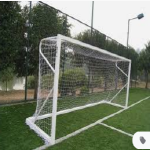goals: (25, 33, 133, 145)
